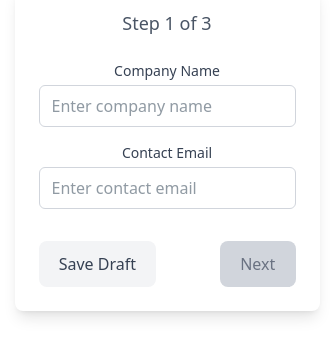
Scenario: Feature: Maritime Insurance Quote Request Wizard Step 1 Component › Scenario: Required field validation on Step 1 › should enable Next button when both fields are valid
Type "My Company" into the field with test id "company-name" at (167, 106), box x1=38 y1=85 x2=296 y2=127
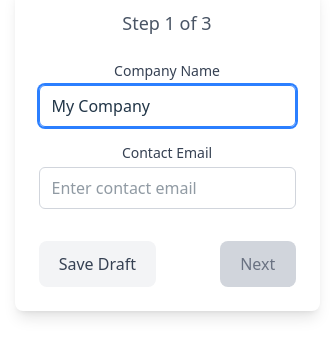
Type "contact@company.com" into the field with test id "contact-email" at (167, 188), box x1=38 y1=167 x2=296 y2=209
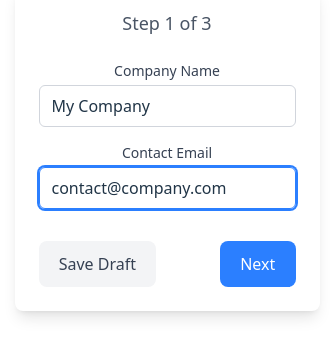
Expected: the button with test id "next-button" is enabled, x1=220 y1=241 x2=296 y2=287
